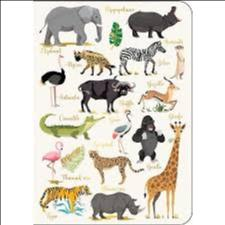Non_Gorille: (32, 3, 179, 222)
